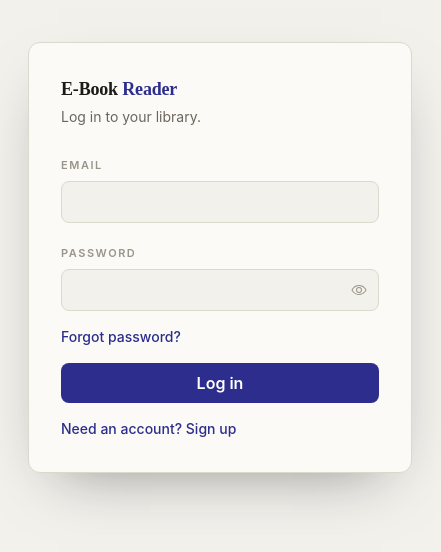
Scenario: signup without session shows confirmation view with email
Click the button "Need an account? Sign up": (149, 428) [61,418,236,438]
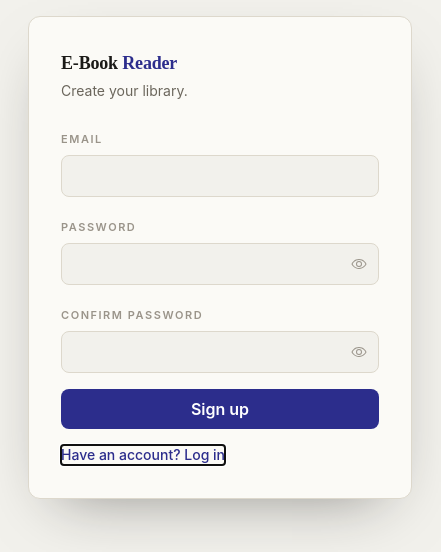
In the field labelled "Email": (220, 176) [61,154,379,196], type "new@user.com"
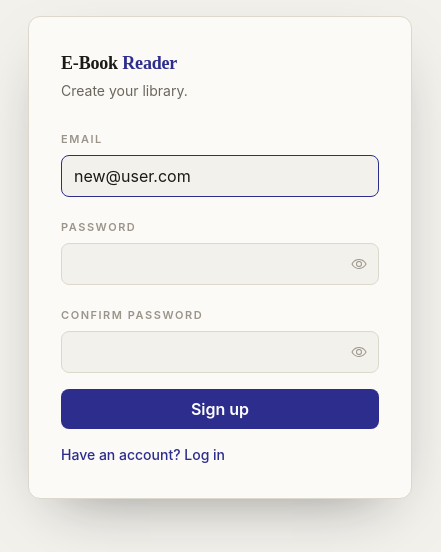
In the password field labelled "Password": (220, 264) [61,242,379,284], type "password123"
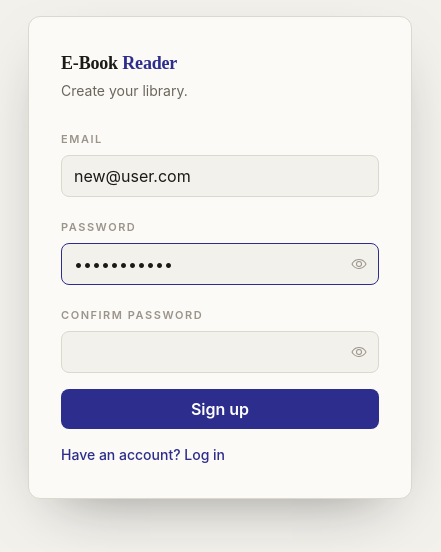
In the password field labelled "Confirm password": (220, 352) [61,330,379,372], type "password123"
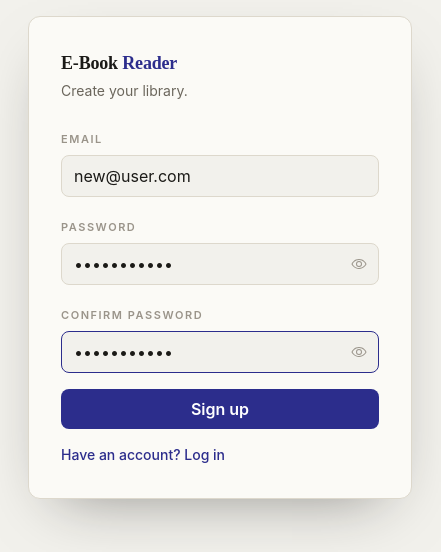
Click the button "Sign up": (220, 408) [61,388,379,428]
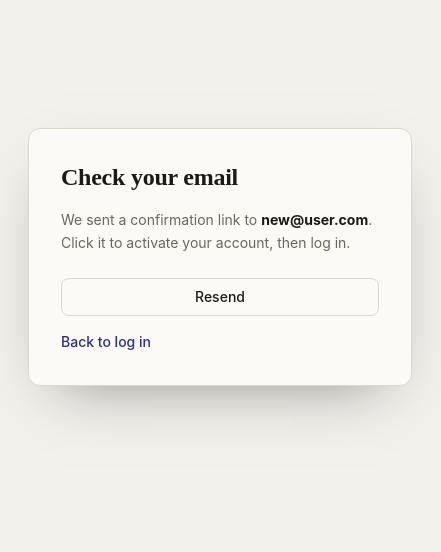
Expected: the text "new@user.com" is shown, [261,211,368,228]
Expected: the heading "Check your email" is shown, [61,164,238,190]
